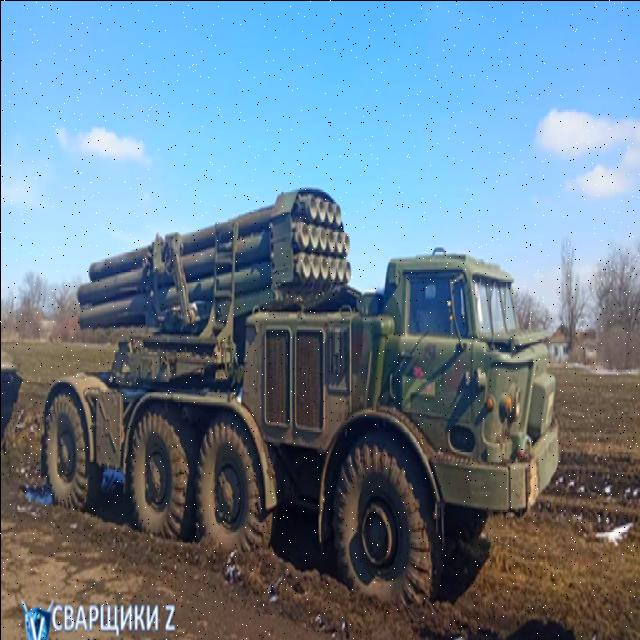MLRS: (41, 182, 559, 614)
